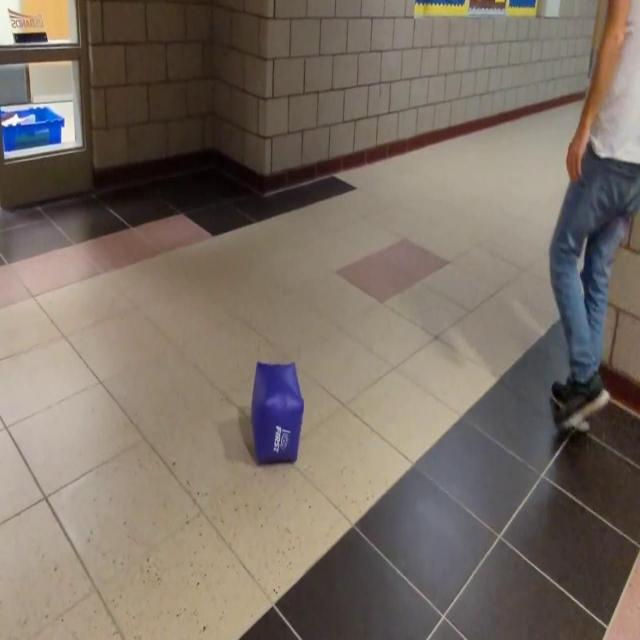frc_cube: (250, 365, 304, 465)
